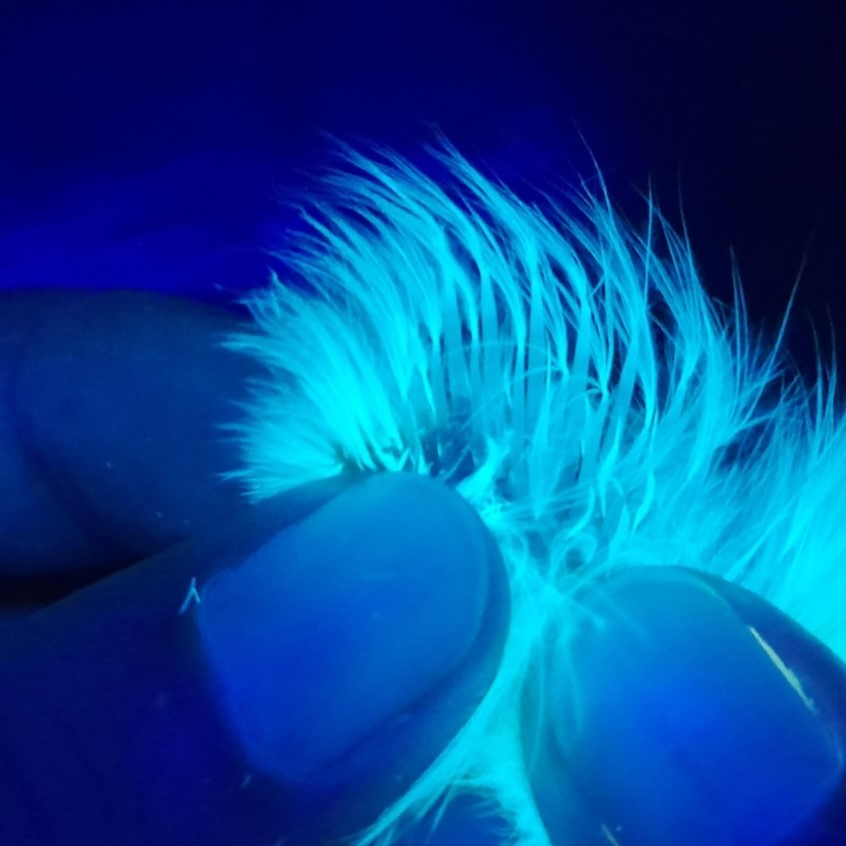female: (379, 215, 692, 588)
